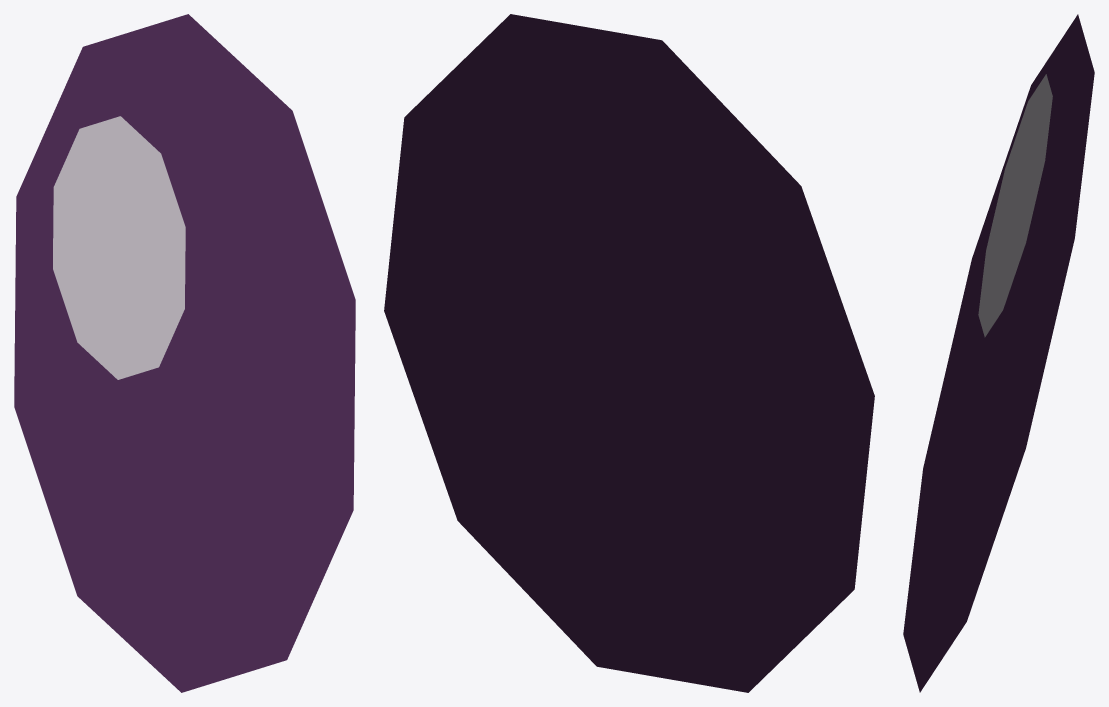
Rendered from scareCrowPupilLeft.glb.
The picture shows the model from 3 angles, left to right: view 1: azimuth 30°, elevation 25°; view 2: azimuth 150°, elevation 25°; view 3: azimuth 270°, elevation 25°; orthographic projection. The views are drawn at different scales.
Parts seen in each view (by area): view 1: scareCrowPupilLeft; view 2: scareCrowPupilLeft; view 3: scareCrowPupilLeft.
Boxes of the visible parts, left/top/right/bottom form: scareCrowPupilLeft: left=14, top=14, right=355, bottom=692; scareCrowPupilLeft: left=384, top=14, right=874, bottom=692; scareCrowPupilLeft: left=903, top=14, right=1094, bottom=692.
Bounding box in the file's own units: 0.0319 × 0.0488 × 0.0138.
